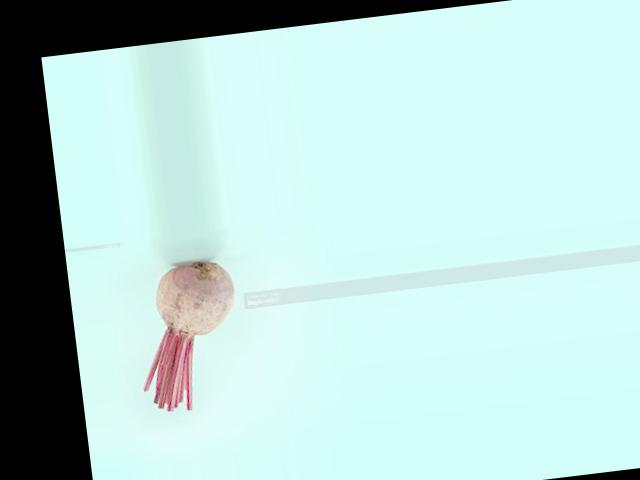beet: (130, 257, 248, 415)
